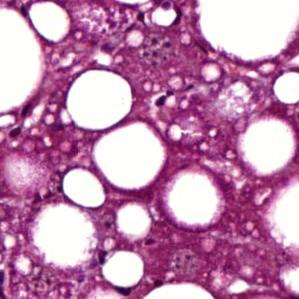steatosis: (63, 64, 138, 132), (90, 128, 168, 191), (62, 164, 108, 214), (99, 244, 148, 286)
